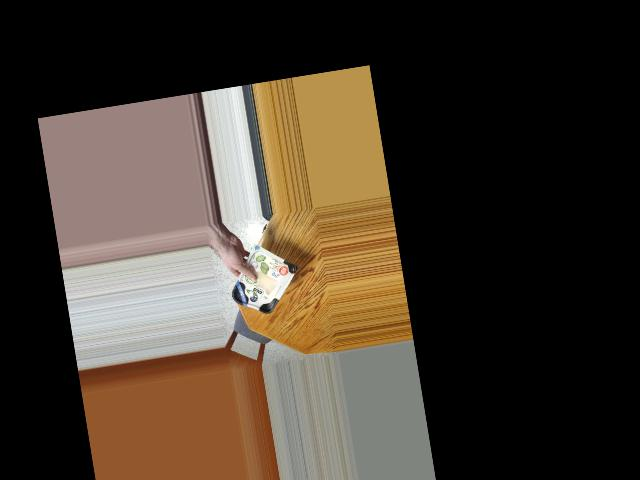cheese: (224, 250, 298, 319)
